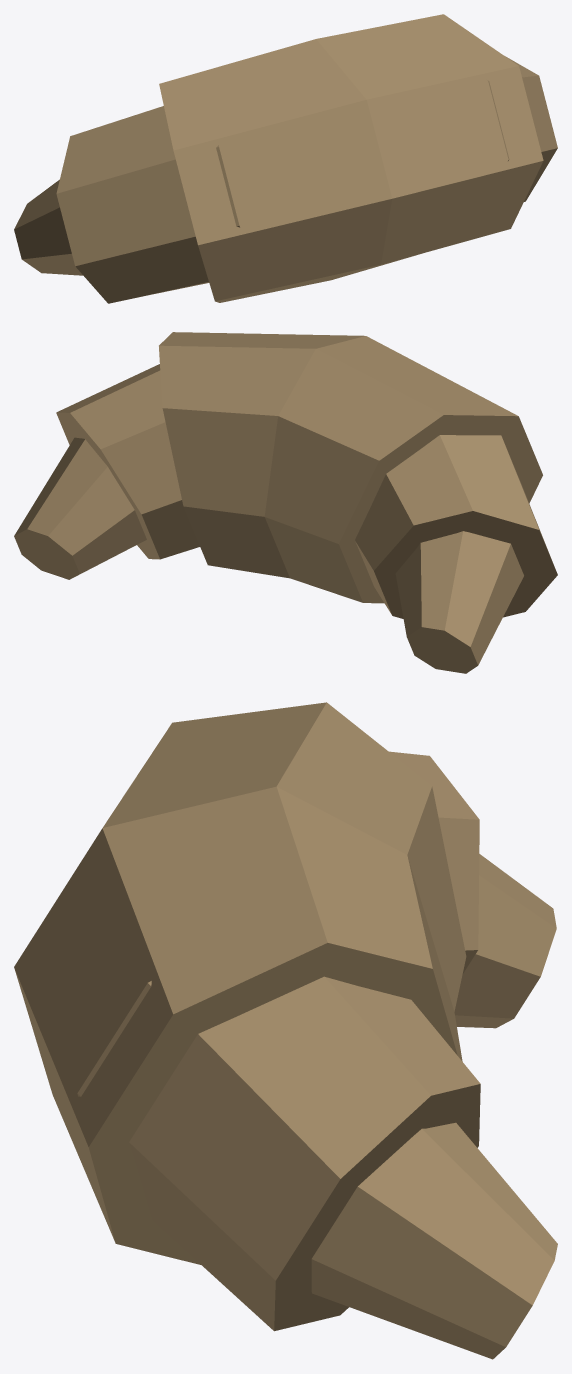
The model's file is Croissant.glb.
3 views of the same model, one above another, from view 1: azimuth 30°, elevation 25°; view 2: azimuth 150°, elevation 25°; view 3: azimuth 270°, elevation 25° (orthographic). The views are drawn at different scales.
Parts seen in each view (by area): view 1: Croissant.001; view 2: Croissant.001; view 3: Croissant.001.
Part boxes in pixels (<box>): Croissant.001: <box>14,14,557,303</box>; Croissant.001: <box>14,332,557,673</box>; Croissant.001: <box>14,702,557,1359</box>.
Size of the model in its own units: 1.04 by 0.4842 by 0.5886.
